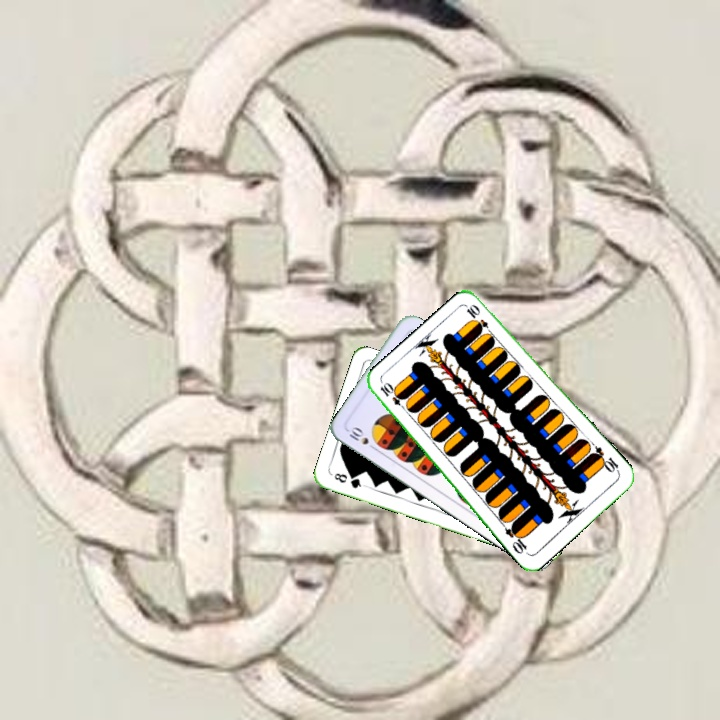E10: (376, 379, 410, 414), (588, 442, 622, 476)
G8: (330, 469, 368, 491)
S10: (345, 422, 379, 453)
